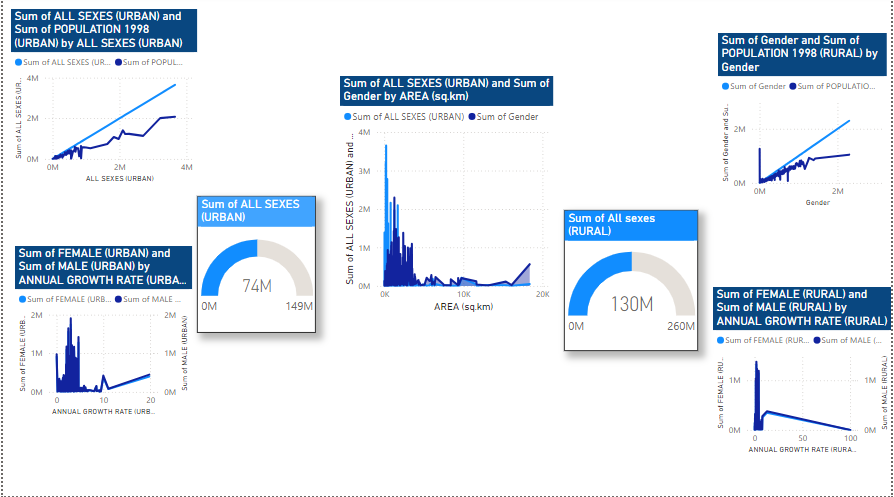

What the dashboard file says about the page in this screenshot:
{"tool":"powerbi","page":{"name":"Page 2","canvas":[1280,720],"ordinal":0},"visuals":[{"type":"lineChart","fields":{"Y":["Sum(Population.ALL SEXES (URBAN))","Sum(Population.POPULATION 1998 (URBAN))"],"Category":["Population.ALL SEXES (URBAN)"]},"box":[11.5,18.7,267.8,254.9],"z":0},{"type":"lineChart","fields":{"Category":["Population.ANNUAL GROWTH RATE (URBAN)"],"Y":["Sum(Population.FEMALE (URBAN))"],"Y2":["Sum(Population.MALE (URBAN))"]},"box":[17.3,360,254.9,249.1],"z":1000},{"type":"lineChart","fields":{"Category":["Population.Gender"],"Y":["Sum(Population.Gender)","Sum(Population.POPULATION 1998 (RURAL))"]},"box":[1029.6,53.3,243.4,254.9],"z":2000},{"type":"lineChart","fields":{"Category":["Population.ANNUAL GROWTH RATE (RURAL)"],"Y":["Sum(Population.FEMALE (RURAL))"],"Y2":["Sum(Population.MALE (RURAL))"]},"box":[1022.4,419,257.8,244.8],"z":3000},{"type":"gauge","fields":{"Y":["Sum(Population.ALL SEXES (URBAN))"]},"box":[279.4,288,171.4,197.3],"z":4000},{"type":"gauge","fields":{"Y":["Sum(Population.Gender)"]},"box":[807.8,308.2,193,203],"z":5000},{"type":"areaChart","fields":{"Y":["Sum(Population.ALL SEXES (URBAN))","Sum(Population.Gender)"],"Category":["Population.AREA (sq.km)"]},"box":[485.3,115.2,306.7,345.6],"z":5001}]}

Visuals, with their boxes in screenshot pixels (x1, y1, x2, y2), scaled from the page's 1280x720 canvas onto the 894x497 screenshot:
lineChart - Sum(Population.ALL SEXES (URBAN)) x Sum(Population.POPULATION 1998 (URBAN)): [8, 13, 195, 189]
lineChart - Population.ANNUAL GROWTH RATE (URBAN) x Sum(Population.FEMALE (URBAN)): [12, 248, 190, 420]
lineChart - Population.Gender x Sum(Population.Gender): [719, 37, 889, 213]
lineChart - Population.ANNUAL GROWTH RATE (RURAL) x Sum(Population.FEMALE (RURAL)): [714, 289, 893, 458]
gauge - Sum(Population.ALL SEXES (URBAN)): [195, 199, 315, 335]
gauge - Sum(Population.Gender): [564, 213, 699, 353]
areaChart - Sum(Population.ALL SEXES (URBAN)) x Sum(Population.Gender): [339, 80, 553, 318]
